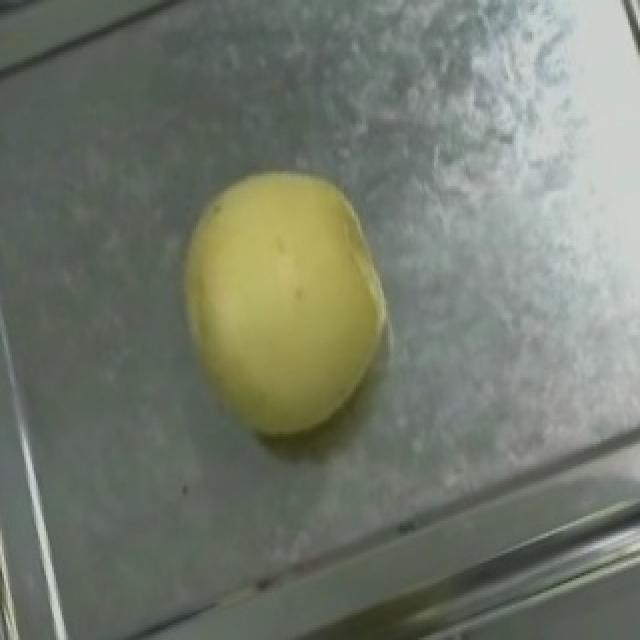Fruit: (136, 131, 436, 474)
